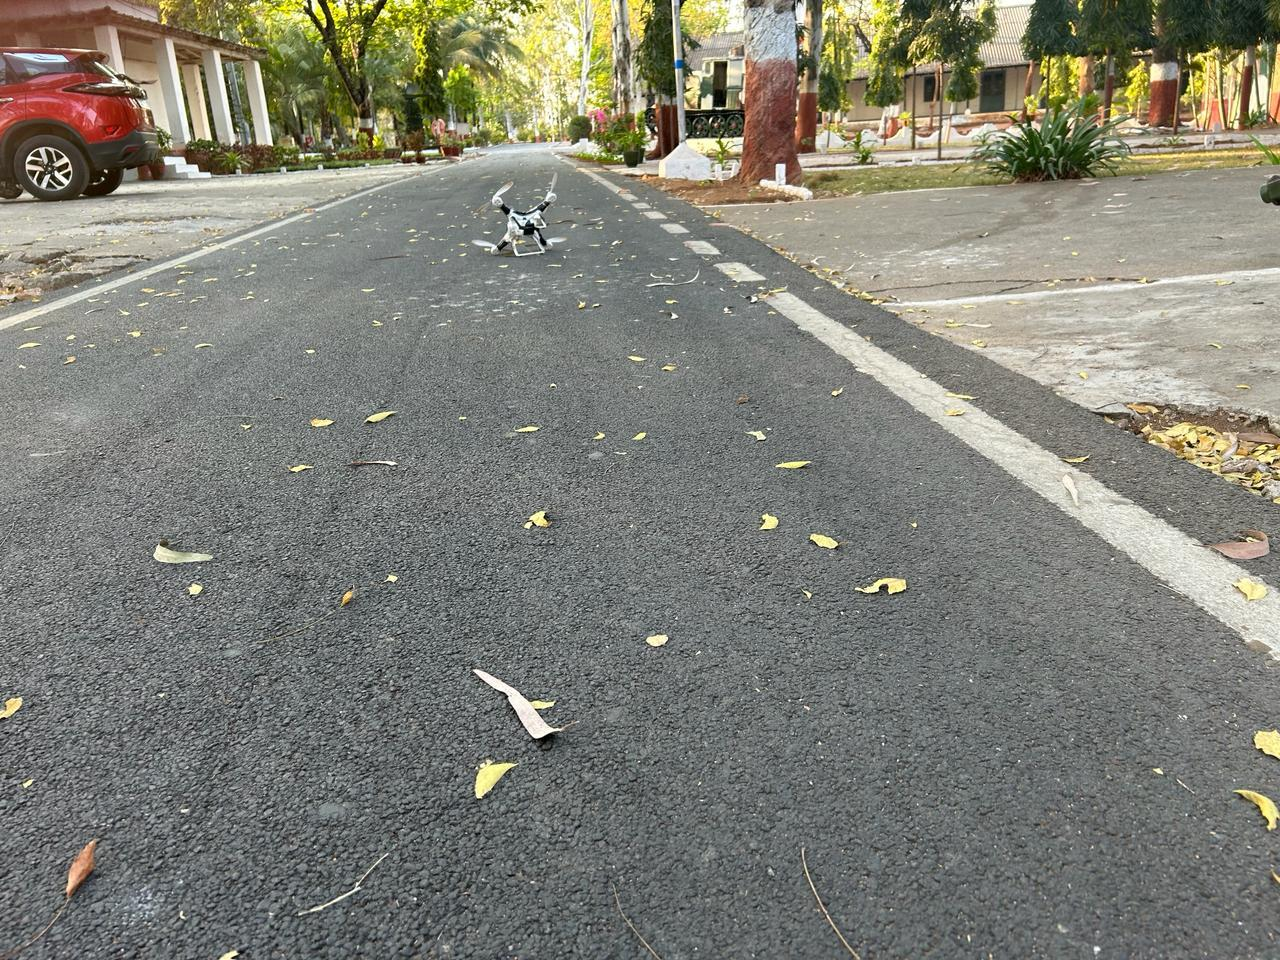drone: (438, 158, 615, 277)
